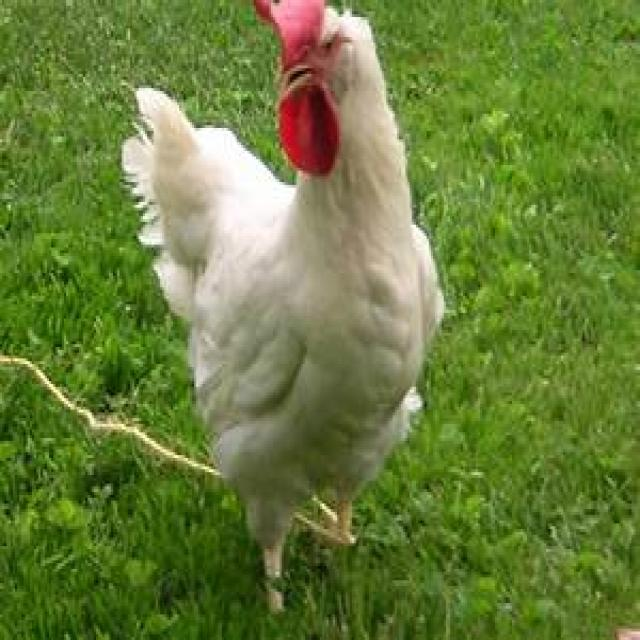hen: (122, 0, 442, 611)
